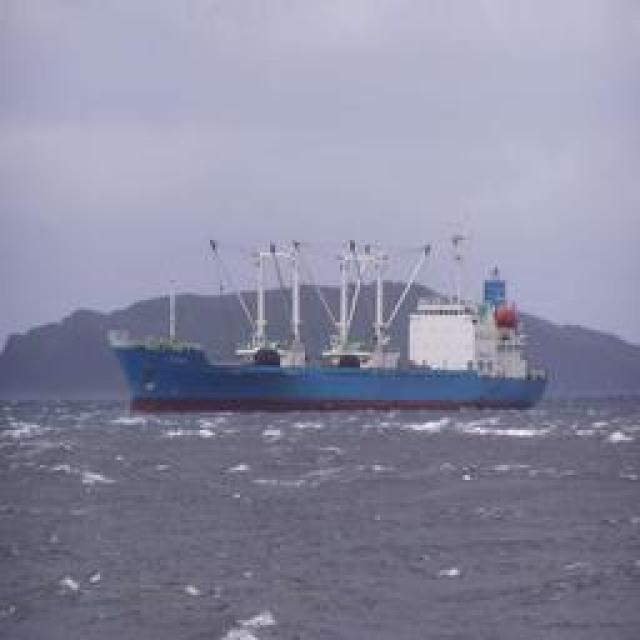ship: (104, 224, 554, 421)
